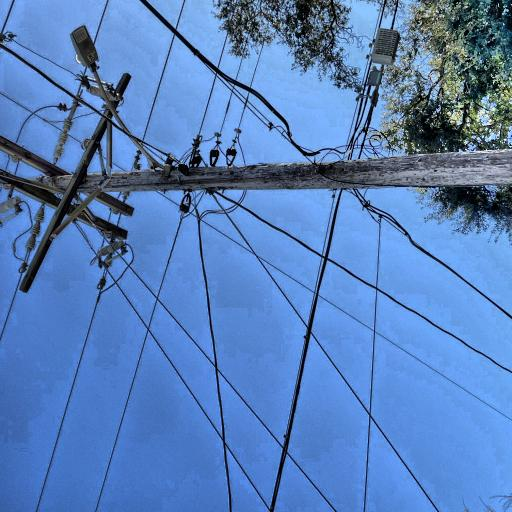pole: (182, 134, 242, 512)
street light: (198, 189, 336, 309)
